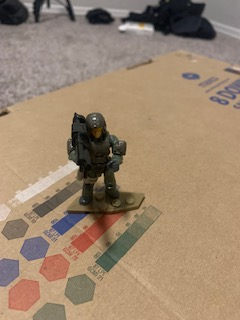soldier: (66, 110, 133, 211)
